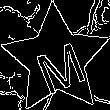M_N: (26, 27, 87, 92)
